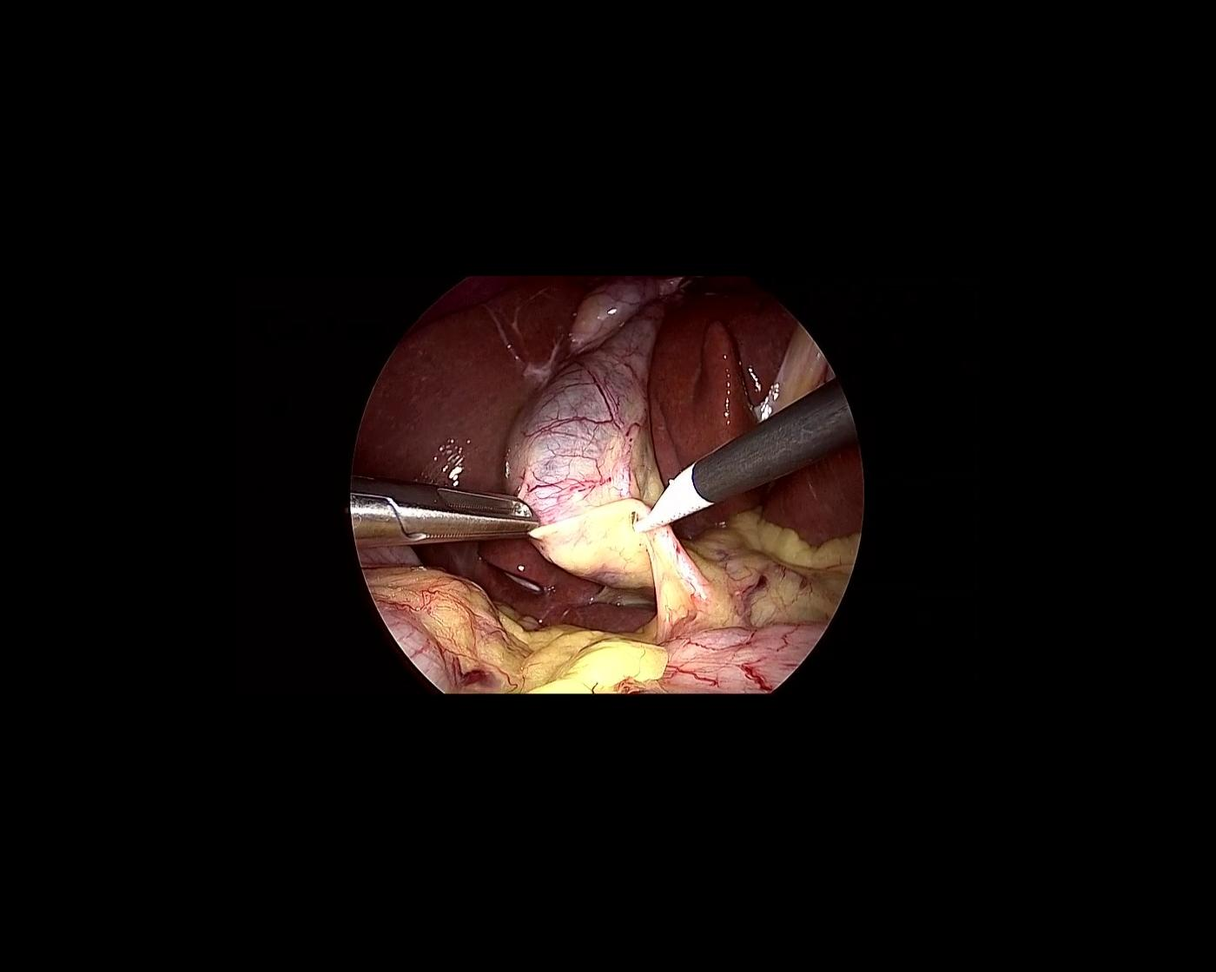Cautery: (605, 377, 863, 542)
Forceps: (349, 457, 549, 555)
Gallbladder: (500, 267, 677, 589)
Liver: (331, 259, 653, 668), (650, 281, 860, 541)
